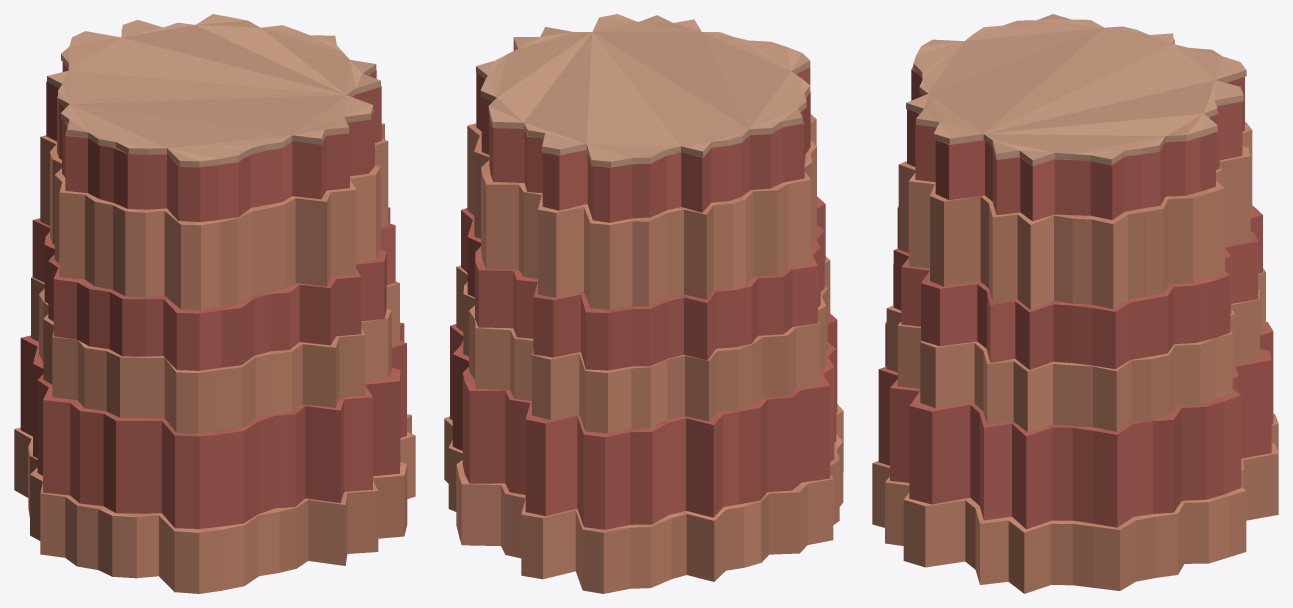
File: Plateau_Small.fbx
3 views of the same model, side by side, from view 1: azimuth 30°, elevation 25°; view 2: azimuth 150°, elevation 25°; view 3: azimuth 270°, elevation 25° (orthographic).
Parts seen in each view (by area): view 1: Plateau_Small; view 2: Plateau_Small; view 3: Plateau_Small.
Boxes of the visible parts, x1,y1,x2,y2 form: Plateau_Small: (14, 14, 415, 593); Plateau_Small: (444, 14, 843, 593); Plateau_Small: (872, 14, 1278, 593).
Bounding box in the file's own units: 18.12 × 20.08 × 17.7.
